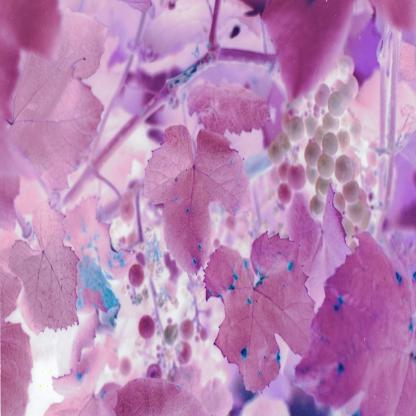grape leaf black rot: (291, 235, 413, 416), (201, 232, 313, 392), (142, 118, 252, 273), (62, 195, 131, 330)
